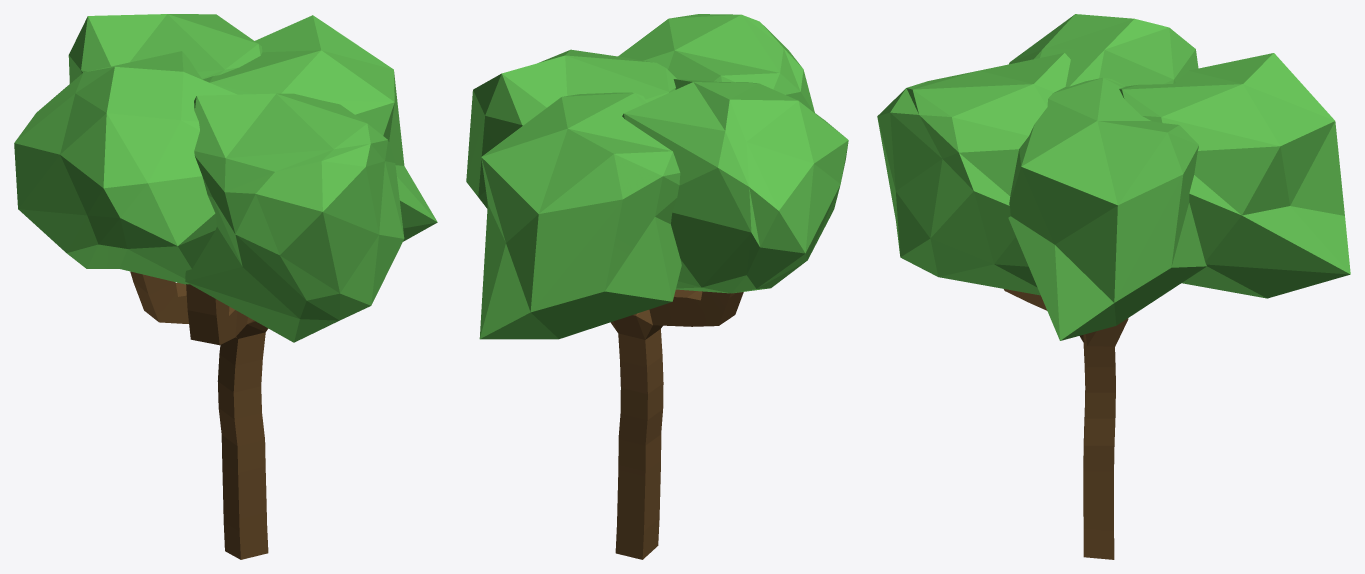
The model's file is un_seul_arbre.glb.
3 views of the same model, side by side, from view 1: azimuth 30°, elevation 25°; view 2: azimuth 150°, elevation 25°; view 3: azimuth 270°, elevation 25° (orthographic). The views are drawn at different scales.
Parts seen in each view (by area): view 1: Trunk; view 2: Trunk; view 3: Trunk.
Boxes of the visible parts, x1=… form: Trunk: x1=14, y1=14, x2=437, y2=559; Trunk: x1=466, y1=14, x2=848, y2=559; Trunk: x1=877, y1=14, x2=1350, y2=559.
Size of the model in its own units: 0.1826 by 0.2355 by 0.2098.
